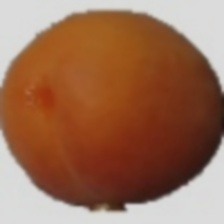apricot: (59, 31, 206, 221)
